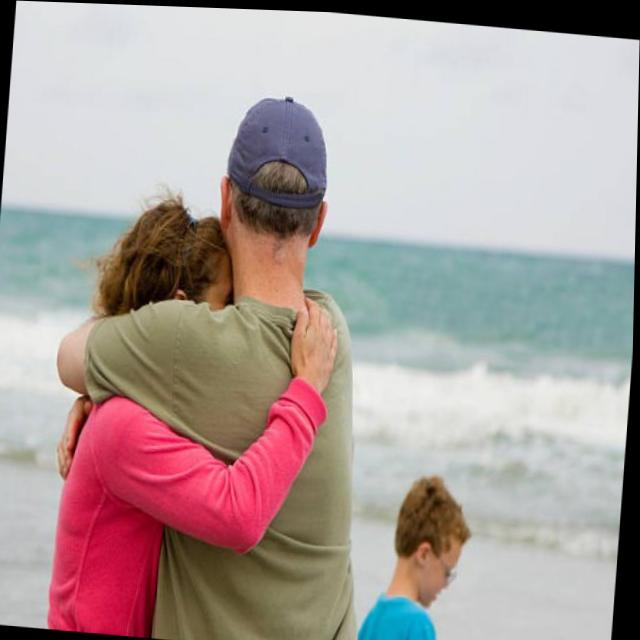no helmet: (204, 84, 356, 304)
